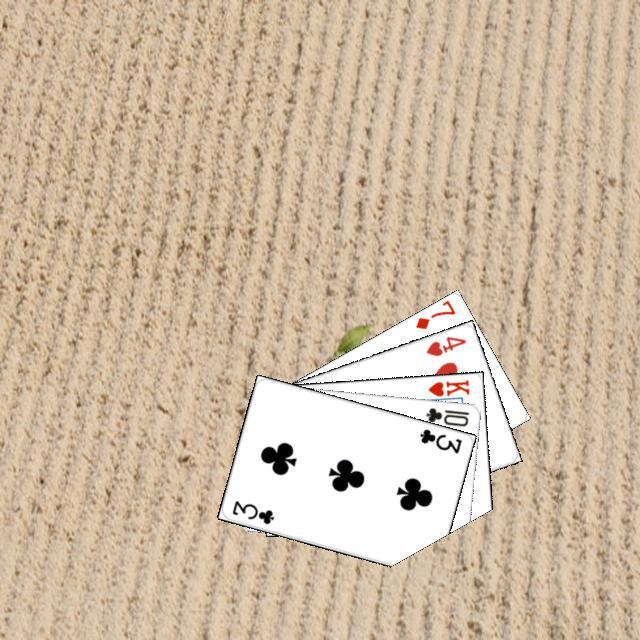10c: (421, 403, 471, 428)
3c: (415, 424, 463, 455), (227, 496, 276, 526)
4h: (421, 331, 468, 358)
7d: (410, 296, 457, 331)
Kh: (420, 375, 471, 403)
